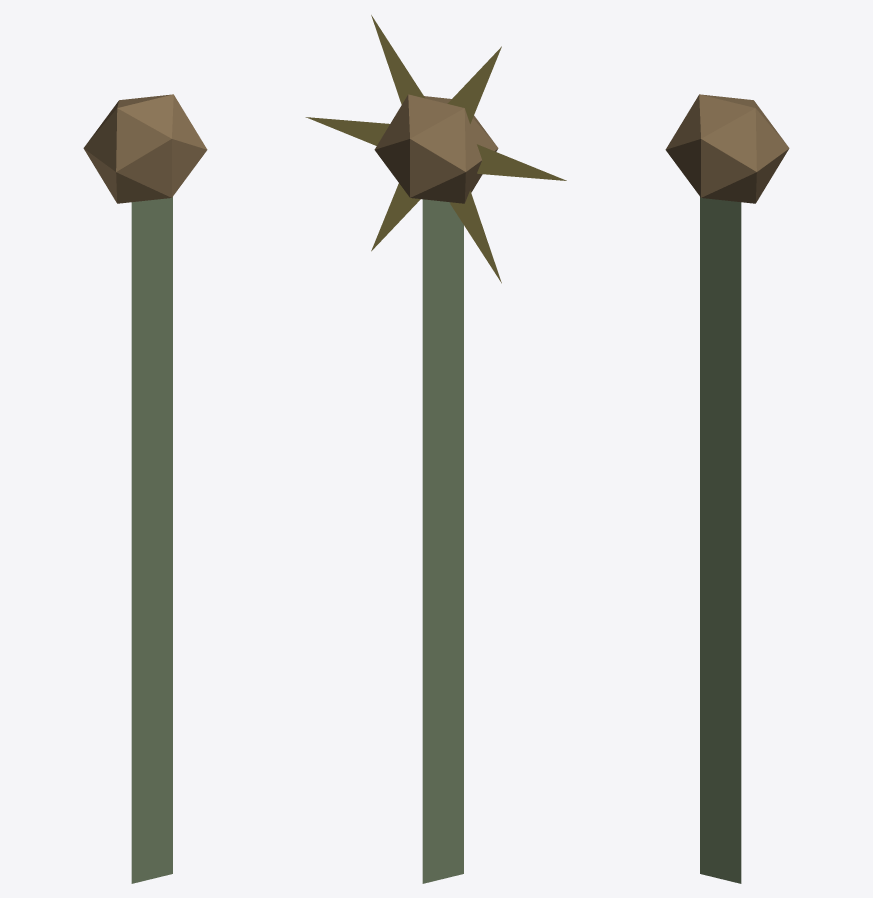
Rendered from fallback_flower_yellow.glb.
3 views of the same model, side by side, from view 1: azimuth 30°, elevation 25°; view 2: azimuth 150°, elevation 25°; view 3: azimuth 330°, elevation 25° (orthographic).
Parts seen in each view (by area): view 1: world; view 2: world; view 3: world.
Boxes of the visible parts, x1=… form: world: x1=83, y1=94, x2=207, y2=883; world: x1=305, y1=15, x2=566, y2=883; world: x1=665, y1=94, x2=789, y2=883.
Size of the model in its own units: 0.22 by 0.6753 by 0.0766.
